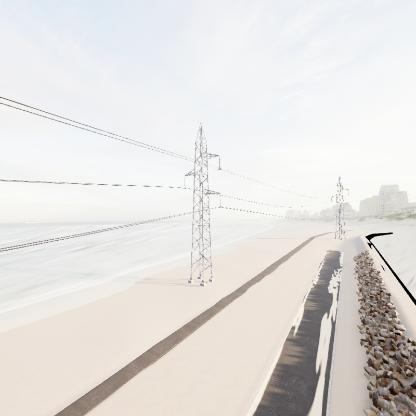tower: (181, 122, 224, 291)
